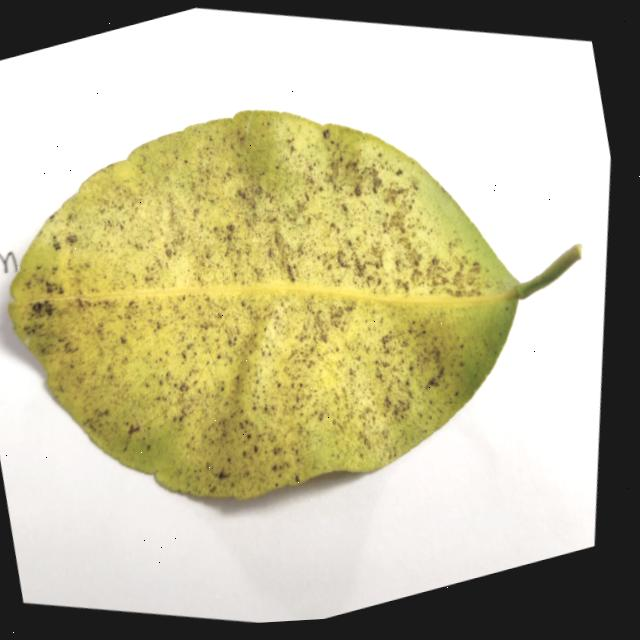melanose: (8, 110, 579, 497)
